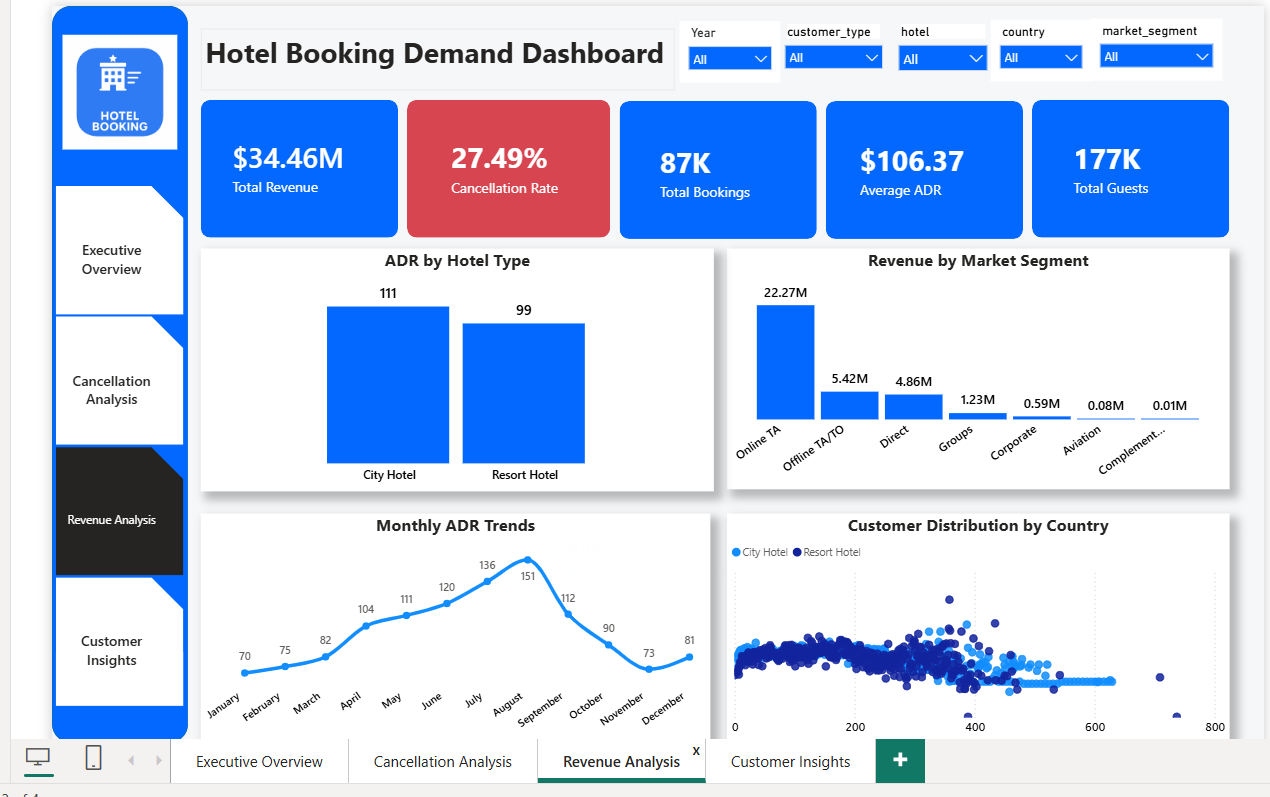

The page's visual inventory and layout, read from the dashboard file:
{"tool":"powerbi","page":{"name":"Revenue Analysis","canvas":[1385,853],"ordinal":2},"visuals":[{"type":"columnChart","title":"Revenue by Market Segment","fields":{"Y":["Sum(hotel_booking_no_duplicates.estimated_revenue)"],"Category":["hotel_booking_no_duplicates.market_segment"]},"box":[771.1,277.8,574.4,275.6],"z":0},{"type":"shape","box":[0,0,155.6,842.2],"z":1000},{"type":"shape","box":[170,106.7,225.6,157.8],"z":2000},{"type":"lineChart","title":"Monthly ADR Trends","fields":{"Y":["Avg(hotel_booking_no_duplicates.adr)"],"Category":["hotel_booking_no_duplicates.arrival_date.Variation.Date Hierarchy.Month"]},"box":[170,580,582.2,265.6],"z":3000},{"type":"clusteredColumnChart","title":"ADR by Hotel Type","fields":{"Category":["hotel_booking_no_duplicates.hotel"],"Y":["Avg(hotel_booking_no_duplicates.adr)"]},"box":[170,277.8,586.7,277.8],"z":4000},{"type":"scatterChart","title":"Customer Distribution by Country","fields":{"X":["hotel_booking_no_duplicates.lead_time"],"Y":["Avg(hotel_booking_no_duplicates.adr)"],"Series":["hotel_booking_no_duplicates.hotel"]},"box":[771.1,580,574.4,265.6],"z":5000},{"type":"textbox","box":[170,25.6,541.1,72.2],"z":6000},{"type":"shape","box":[405.8,106.7,232.2,157.8],"z":7000},{"type":"shape","box":[648.3,108.9,225.6,157.8],"z":8000},{"type":"shape","box":[884.2,108.9,225.6,157.8],"z":9000},{"type":"shape","box":[1120,106.7,225.6,157.8],"z":10000},{"type":"cardVisual","fields":{"Data":["hotel_booking_no_duplicates.Average ADR"]},"box":[894.4,118.9,196.7,137.8],"z":11000},{"type":"image","box":[0,32.2,155.6,131.1],"z":12000},{"type":"cardVisual","fields":{"Data":["hotel_booking_no_duplicates.Total Bookings"]},"box":[665.6,122.2,186.7,133.3],"z":13000},{"type":"cardVisual","fields":{"Data":["hotel_booking_no_duplicates.Cancellation Rate"]},"box":[426.7,115.6,193.3,137.8],"z":14000},{"type":"cardVisual","fields":{"Data":["hotel_booking_no_duplicates.Total Guests"]},"box":[1138.9,125.6,187.8,118.9],"z":15000},{"type":"slicer","fields":{"Values":["hotel_booking_no_duplicates.hotel"]},"box":[957.8,15.6,122.2,70],"z":16000},{"type":"slicer","fields":{"Values":["hotel_booking_no_duplicates.customer_type"]},"box":[827.8,15.6,132.2,70],"z":17000},{"type":"slicer","fields":{"Values":["hotel_booking_no_duplicates.arrival_date.Variation.Date Hierarchy.Year"]},"box":[717.8,16.7,115.6,70],"z":18000},{"type":"slicer","fields":{"Values":["hotel_booking_no_duplicates.country"]},"box":[1072.2,15.6,114.4,70],"z":19000},{"type":"slicer","fields":{"Values":["hotel_booking_no_duplicates.market_segment"]},"box":[1186.7,14.4,150,71.1],"z":20000},{"type":"cardVisual","fields":{"Data":["hotel_booking_no_duplicates.Total Revenue"]},"box":[176.7,113.3,210,141.1],"z":21000},{"type":"pageNavigator","box":[4.4,205.6,146.7,597.8],"z":22000}]}

Visuals, with their boxes on the page's 1385x853 design canvas (x1, y1, x2, y2). These are canvas units, not pixel positions in the 1270x797 screenshot, which may show the page scaled, cropped or inside an application window:
"Revenue by Market Segment" columnChart: 771 278 1346 553
shape: 0 0 156 842
shape: 170 107 396 264
"Monthly ADR Trends" lineChart: 170 580 752 846
"ADR by Hotel Type" clusteredColumnChart: 170 278 757 556
"Customer Distribution by Country" scatterChart: 771 580 1346 846
textbox: 170 26 711 98
shape: 406 107 638 264
shape: 648 109 874 267
shape: 884 109 1110 267
shape: 1120 107 1346 264
cardVisual - hotel_booking_no_duplicates.Average ADR: 894 119 1091 257
image: 0 32 156 163
cardVisual - hotel_booking_no_duplicates.Total Bookings: 666 122 852 256
cardVisual - hotel_booking_no_duplicates.Cancellation Rate: 427 116 620 253
cardVisual - hotel_booking_no_duplicates.Total Guests: 1139 126 1327 244
slicer - hotel_booking_no_duplicates.hotel: 958 16 1080 86
slicer - hotel_booking_no_duplicates.customer_type: 828 16 960 86
slicer - hotel_booking_no_duplicates.arrival_date.Variation.Date Hierarchy.Year: 718 17 833 87
slicer - hotel_booking_no_duplicates.country: 1072 16 1187 86
slicer - hotel_booking_no_duplicates.market_segment: 1187 14 1337 86
cardVisual - hotel_booking_no_duplicates.Total Revenue: 177 113 387 254
pageNavigator: 4 206 151 803
